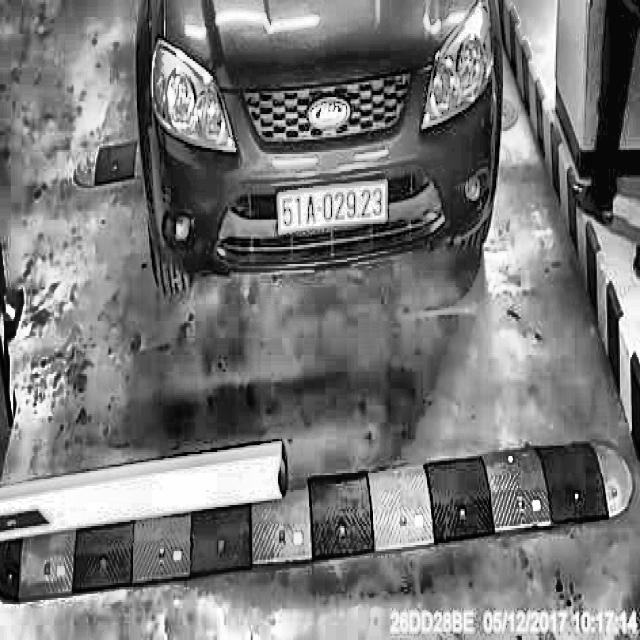plate: (275, 177, 390, 236)
